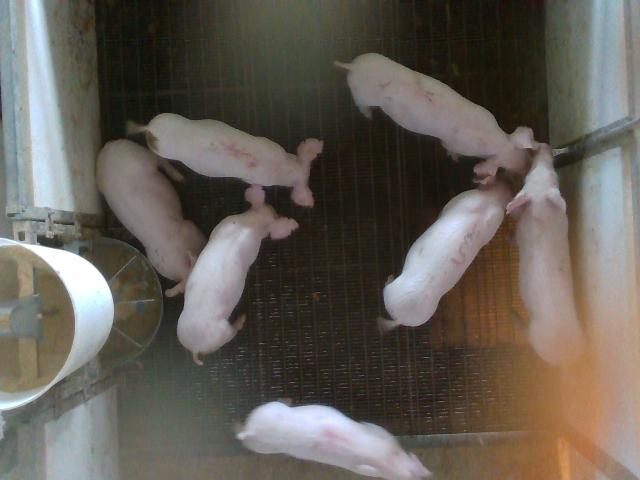pig-3: (378, 181, 512, 331)
pig-4: (236, 401, 431, 478)
pig-5: (126, 112, 324, 206)
